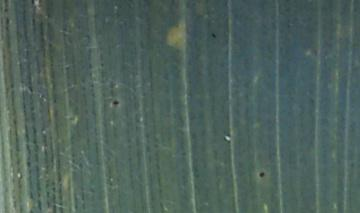tarspot: (111, 98, 120, 107), (211, 31, 218, 39), (259, 171, 265, 179), (30, 1, 36, 6)
